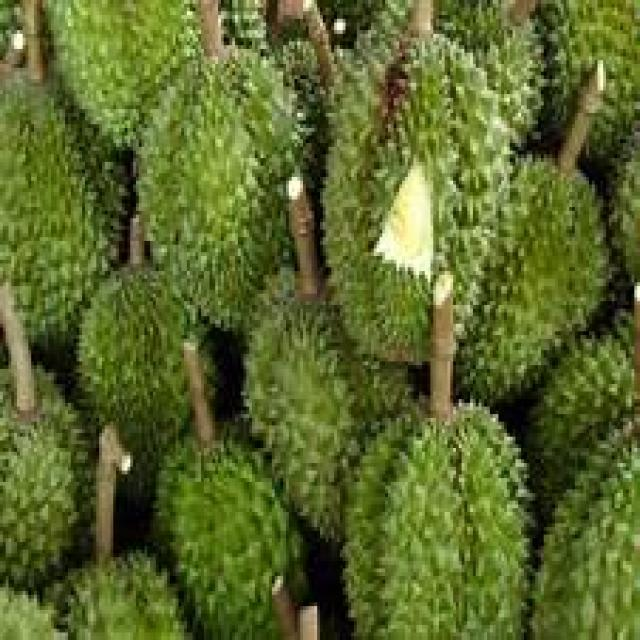immature: (322, 19, 515, 367), (133, 44, 321, 334), (238, 257, 412, 546), (340, 395, 532, 640), (151, 425, 313, 640)
